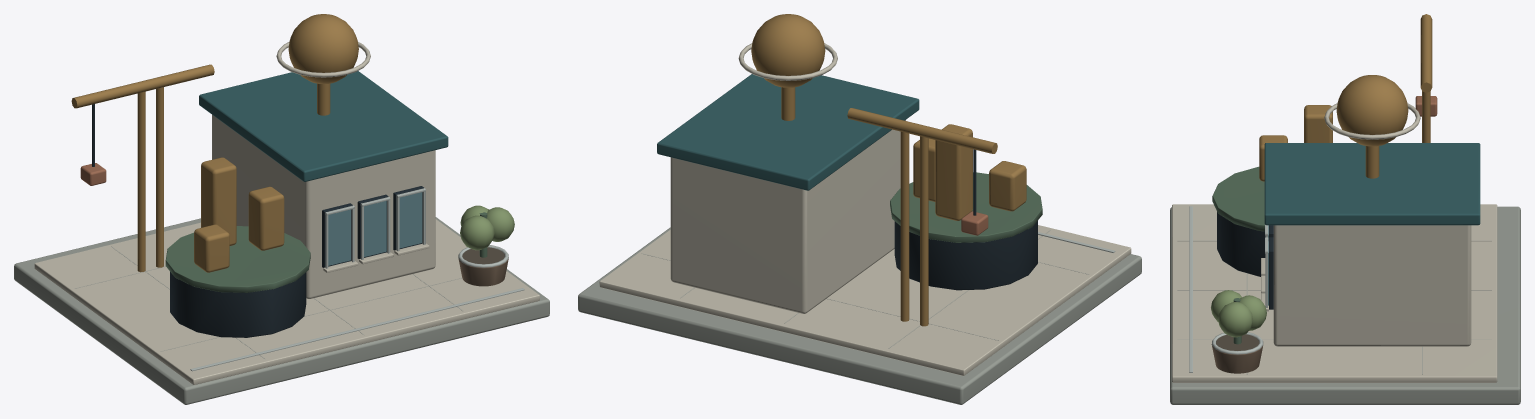
The model's file is idea-8b1a1e59.glb.
3 renders of one model, left to right at view 1: azimuth 30°, elevation 25°; view 2: azimuth 150°, elevation 25°; view 3: azimuth 270°, elevation 25°, orthographic. The views are drawn at different scales.
Visible parts, largest first — view 1: Karmic Life / Civilization OS; view 2: Karmic Life / Civilization OS; view 3: Karmic Life / Civilization OS.
Boxes of the visible parts, x1=… form: Karmic Life / Civilization OS: x1=14, y1=14, x2=549, y2=404; Karmic Life / Civilization OS: x1=578, y1=14, x2=1141, y2=404; Karmic Life / Civilization OS: x1=1170, y1=14, x2=1520, y2=404.
Size of the model in its own units: 4.8 by 3.24 by 3.9.
